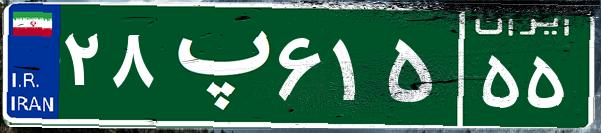1: (330, 28, 385, 110)
2: (57, 26, 110, 107)
5: (385, 28, 445, 110), (475, 38, 525, 113), (525, 38, 570, 115)
6: (273, 28, 330, 110)
8: (110, 28, 158, 105)
پ: (158, 15, 273, 115)
